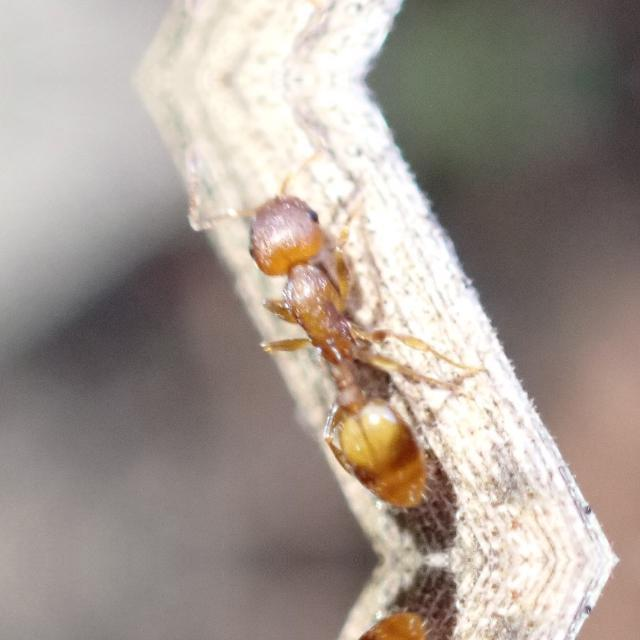Temnothorax: (177, 116, 488, 532)
